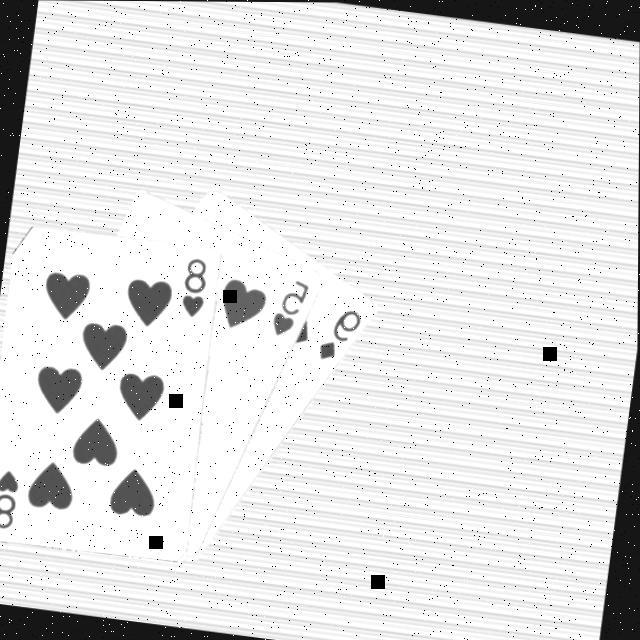5H: (268, 274, 314, 343)
8H: (178, 254, 214, 323), (0, 466, 25, 533)
9D: (314, 303, 366, 368)
